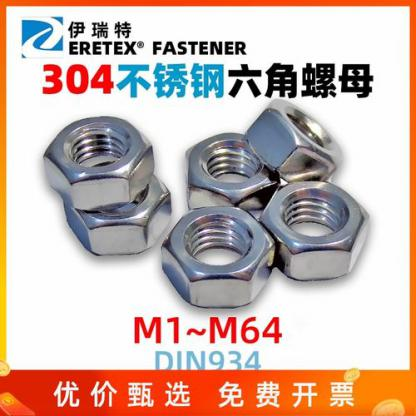FOD: (159, 204, 275, 309), (256, 178, 371, 282), (57, 165, 172, 257), (42, 116, 153, 210), (244, 96, 344, 186), (182, 128, 280, 214)
